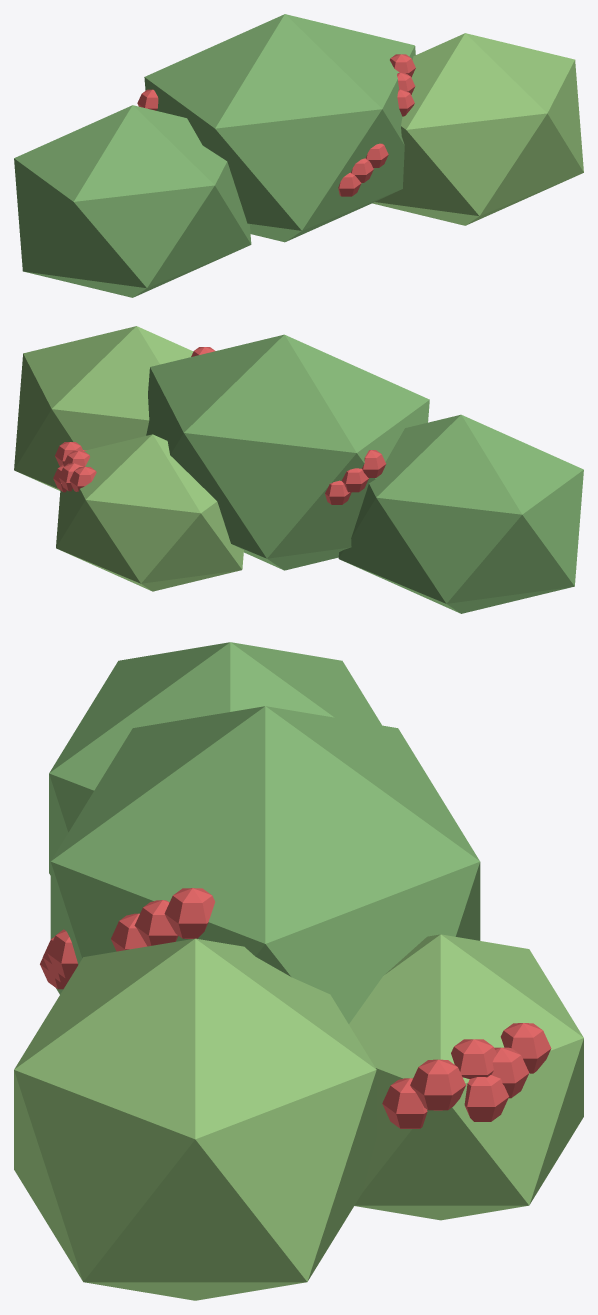
Rendered from bush_wide.glb.
The picture shows the model from 3 angles, top to bottom: view 1: azimuth 30°, elevation 25°; view 2: azimuth 150°, elevation 25°; view 3: azimuth 270°, elevation 25°; orthographic projection. The views are drawn at different scales.
Visible parts, largest first — view 1: BushWide; view 2: BushWide; view 3: BushWide.
Part boxes in pixels (box(x1,y1,x2,y2)): BushWide: box(14, 14, 583, 297); BushWide: box(14, 326, 583, 613); BushWide: box(14, 642, 583, 1300).
Bounding box in the file's own units: 1.68 × 0.7025 × 0.8127.
